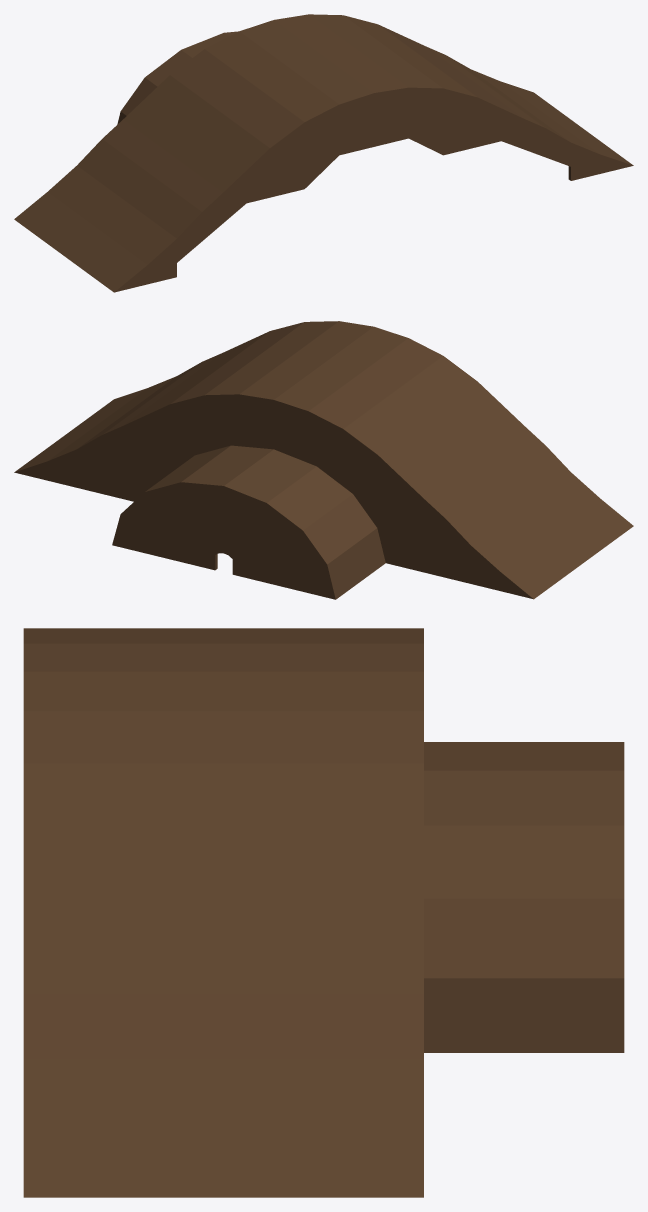
File: mokumoku.glb
3 renders of one model, top to bottom at view 1: azimuth 30°, elevation 25°; view 2: azimuth 150°, elevation 25°; view 3: azimuth 270°, elevation 25°, orthographic. The views are drawn at different scales.
Parts seen in each view (by area): view 1: 平面; view 2: 平面; view 3: 平面.
Part boxes in pixels (x1,y1,x2,y2): 平面: [14, 14, 633, 292]; 平面: [14, 321, 633, 599]; 平面: [23, 628, 624, 1197].
Size of the model in its own units: 60 by 15 by 30.
